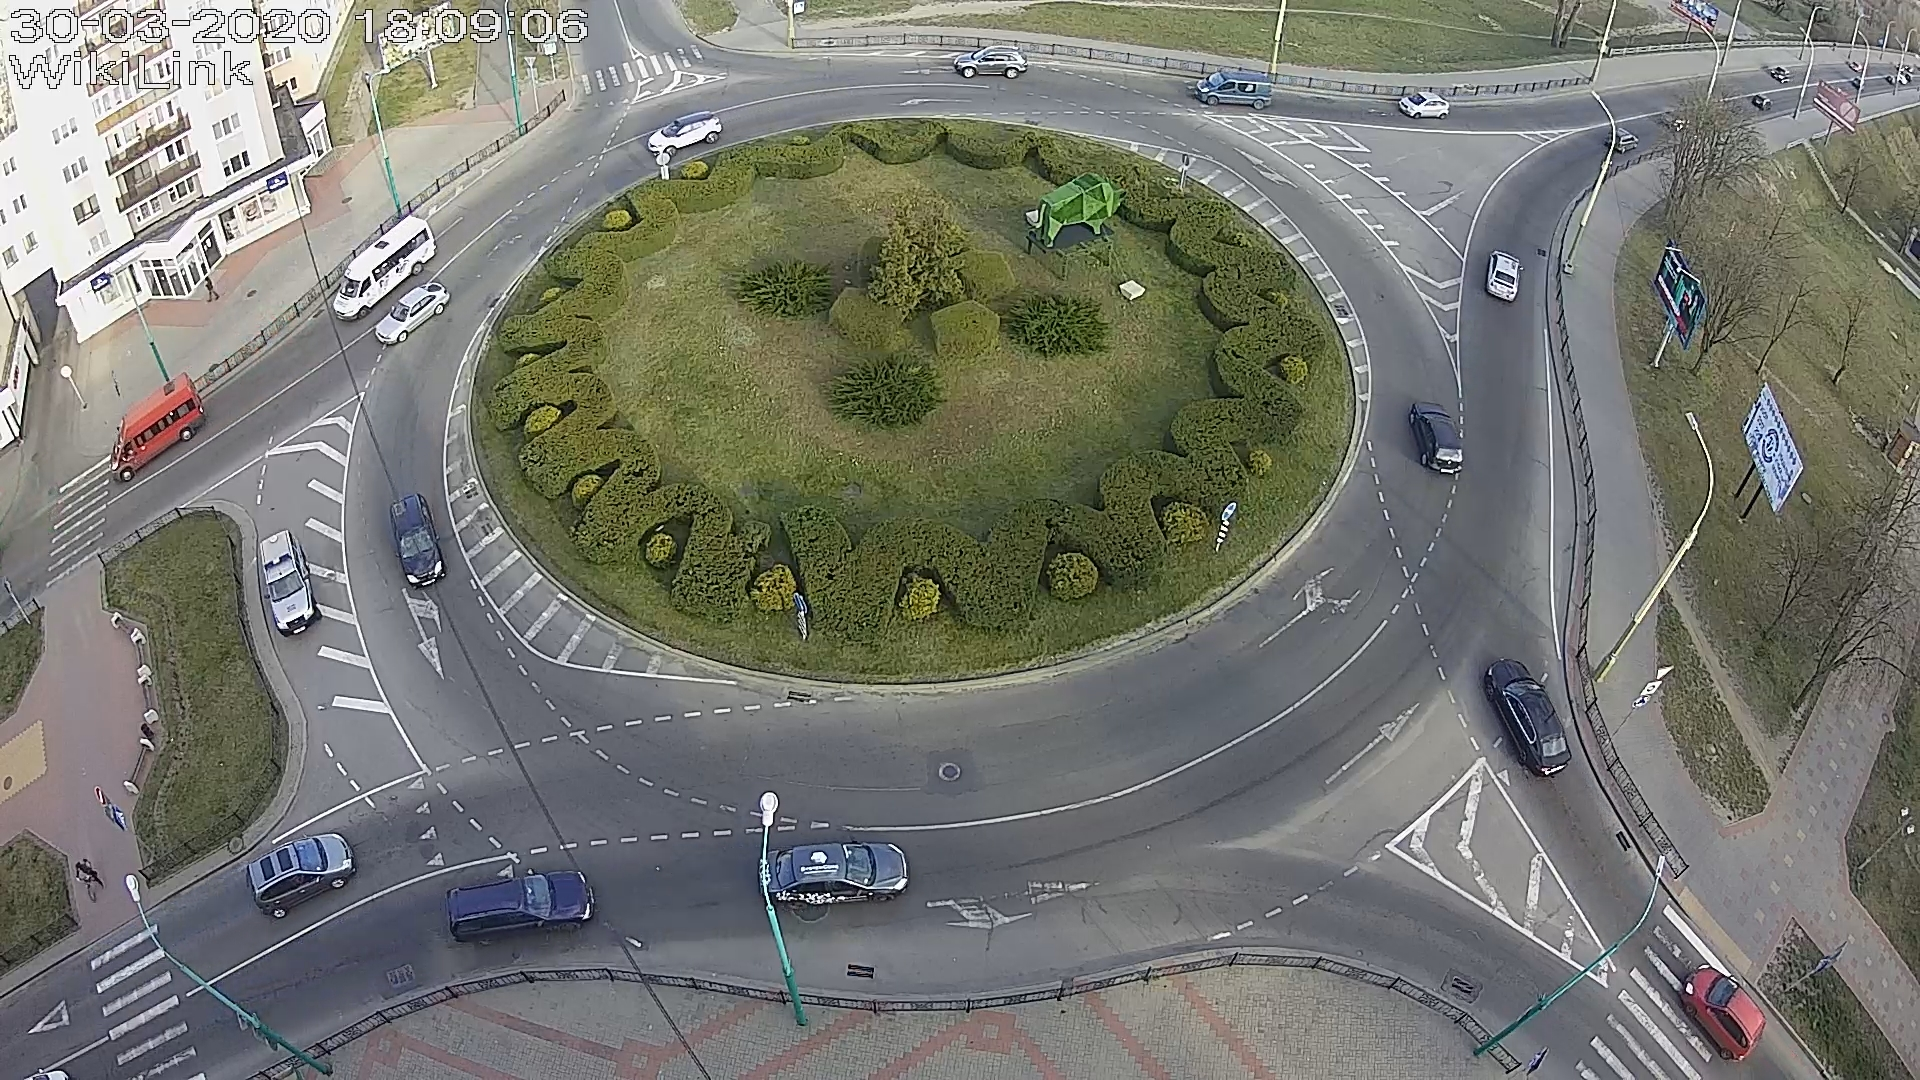car: (444, 868, 595, 945), (332, 216, 436, 322), (109, 372, 208, 483), (1484, 659, 1573, 778), (247, 832, 356, 919), (758, 843, 909, 905), (1680, 964, 1766, 1064), (258, 529, 323, 637), (389, 493, 446, 589), (375, 282, 451, 345), (1408, 401, 1465, 475), (646, 111, 723, 157), (1193, 70, 1273, 109), (953, 45, 1029, 79), (1485, 251, 1524, 302), (1398, 92, 1449, 120), (1604, 128, 1640, 154)
